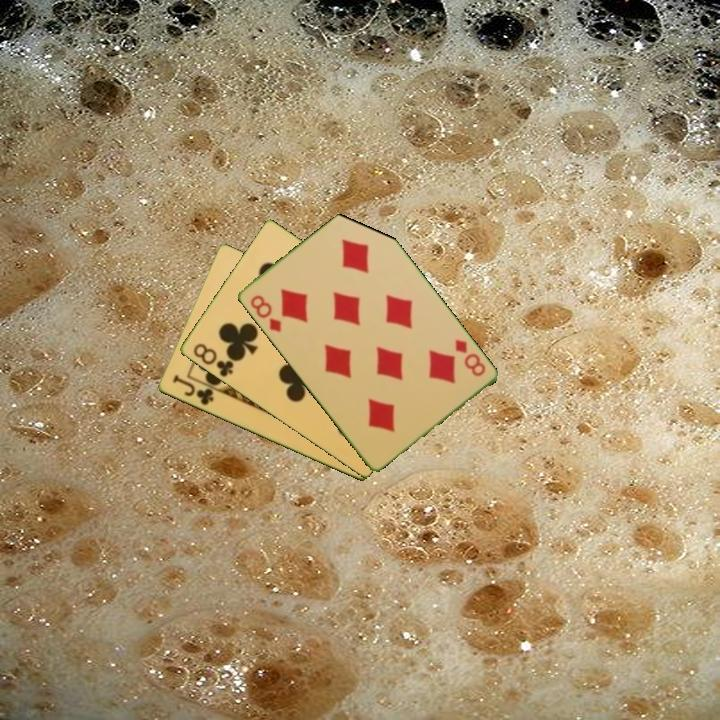8c: (189, 340, 236, 380)
8d: (246, 291, 284, 335), (451, 335, 488, 379)
Jc: (169, 371, 217, 409)
